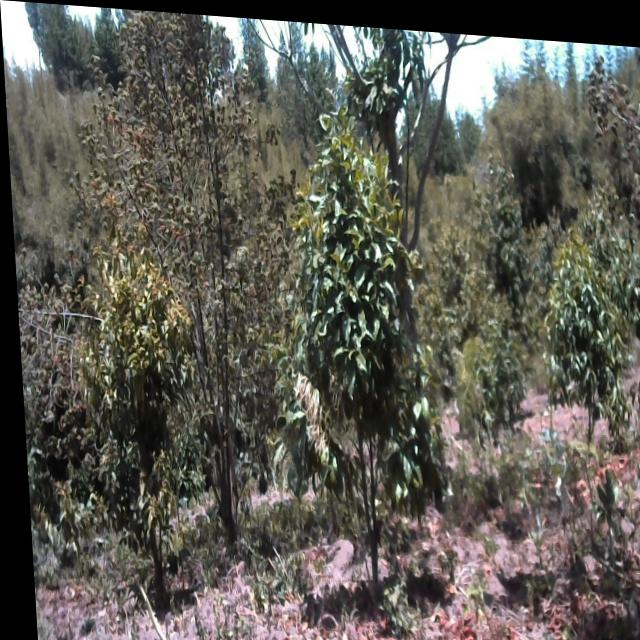Hass Avocado: (283, 105, 437, 606), (80, 251, 208, 630), (545, 236, 622, 431)
Lemon Myrtle: (586, 48, 640, 283)
other: (76, 26, 304, 499)
